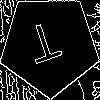T: (24, 20, 67, 73)
